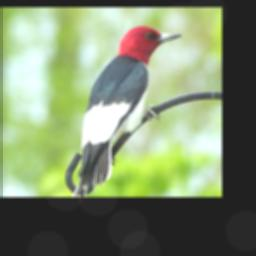Woodpecker: (70, 24, 184, 196)
